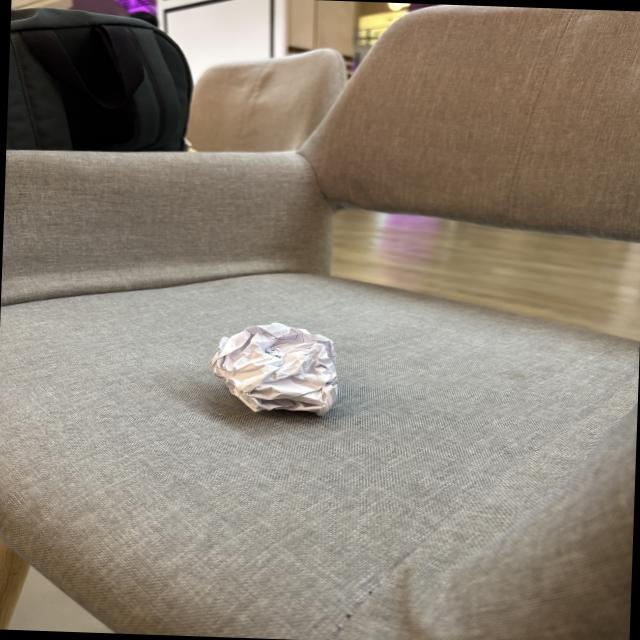crumpled_paper: (204, 314, 346, 426)
